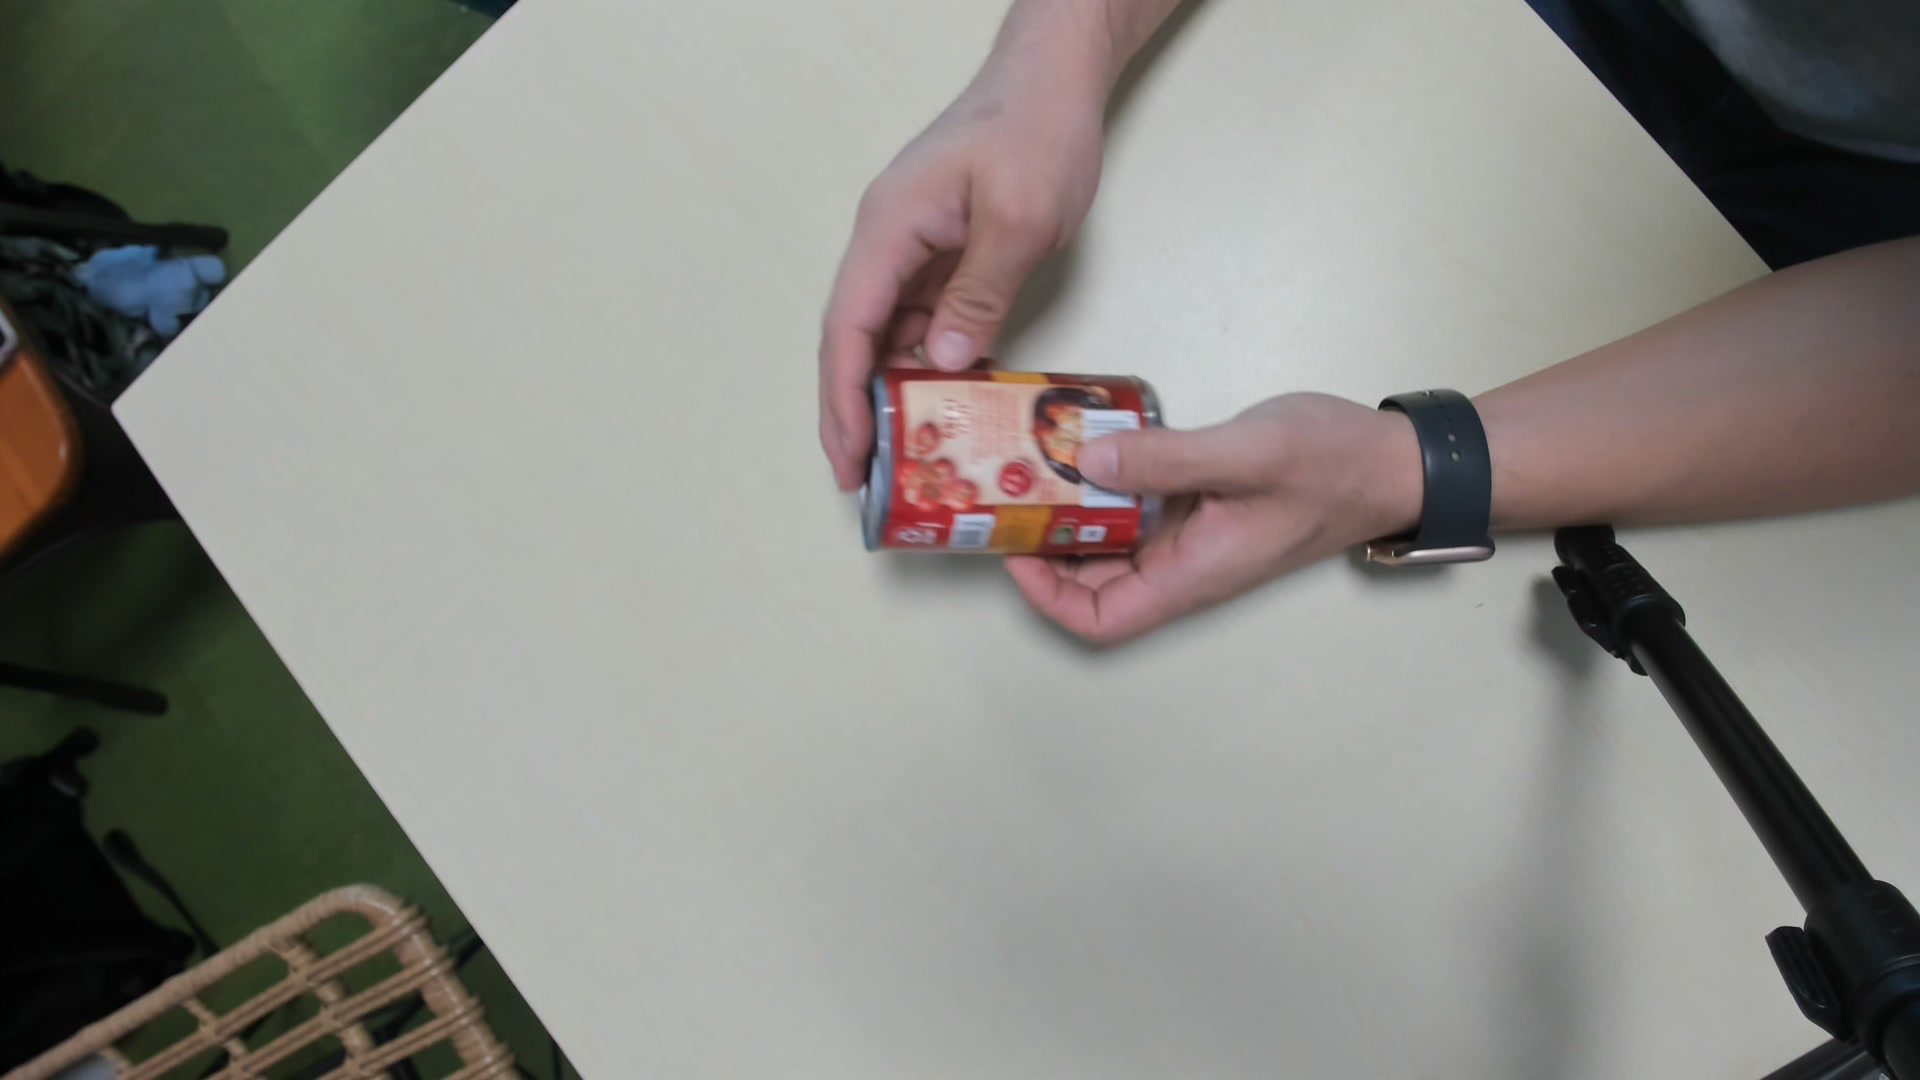OtherSauceDressing_300-399g_NonHalal_NonHealthy: (861, 369, 1162, 562)
